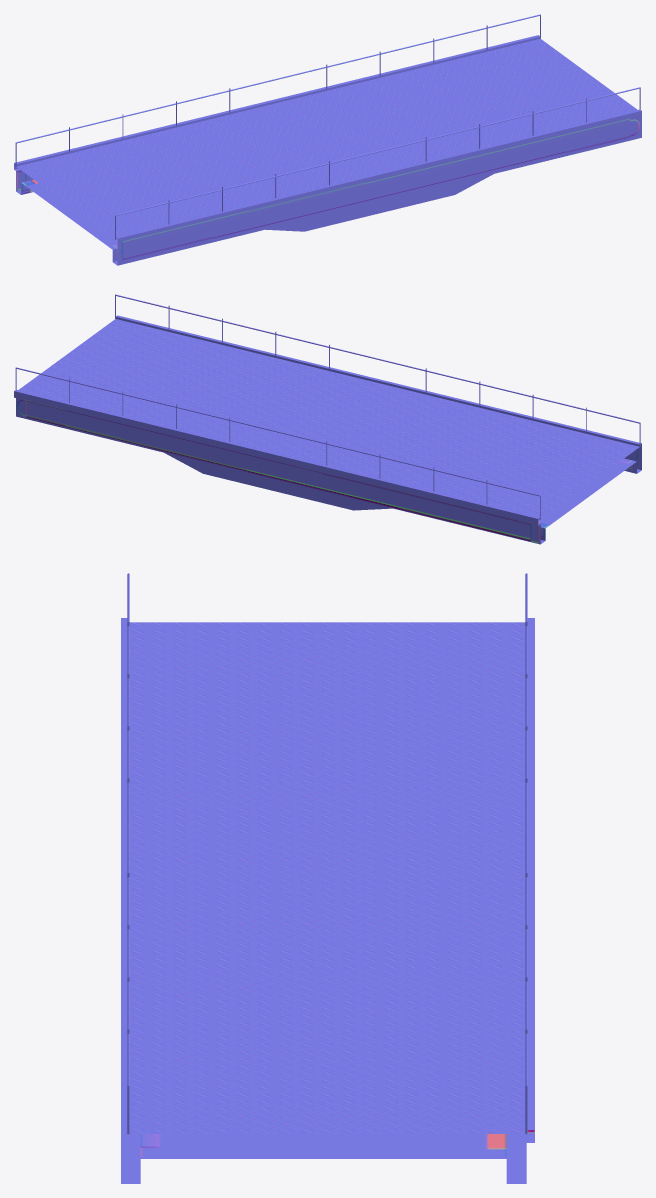
File: Side_C_ApproachBig.FBX
3 views of the same model, one above another, from view 1: azimuth 30°, elevation 25°; view 2: azimuth 150°, elevation 25°; view 3: azimuth 270°, elevation 25° (orthographic). The views are drawn at different scales.
Visible parts, largest first — view 1: Side_C_ApproachBig; view 2: Side_C_ApproachBig; view 3: Side_C_ApproachBig.
Part boxes in pixels (x1,y1,x2,y2): Side_C_ApproachBig: (14, 14, 641, 265); Side_C_ApproachBig: (14, 294, 641, 544); Side_C_ApproachBig: (121, 573, 534, 1183).
Bounding box in the file's own units: 1118 × 127 × 382.
